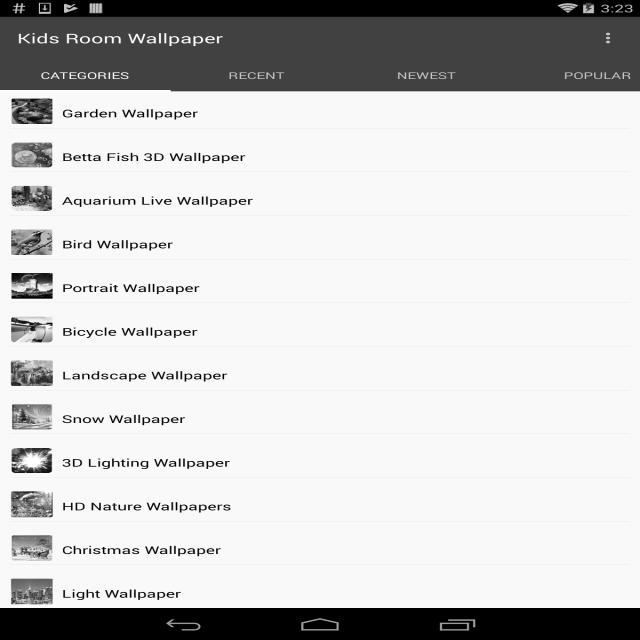ImageView: (589, 22, 631, 54), (11, 98, 53, 125), (11, 185, 53, 212), (11, 229, 53, 256), (11, 316, 53, 343), (11, 360, 53, 387), (11, 447, 53, 474), (11, 491, 53, 518), (11, 578, 53, 605), (11, 142, 53, 168), (11, 273, 53, 299), (11, 404, 53, 430), (11, 535, 53, 561), (11, 215, 629, 216), (11, 346, 629, 347), (11, 477, 629, 478), (11, 128, 629, 128), (11, 172, 629, 172), (11, 259, 629, 259), (11, 303, 629, 303), (11, 390, 629, 390), (11, 434, 629, 434), (11, 521, 629, 521), (11, 565, 629, 565)
TextView: (54, 144, 255, 170), (53, 188, 262, 213), (54, 362, 236, 388), (53, 450, 239, 475), (54, 494, 240, 518), (53, 538, 230, 562), (53, 100, 207, 126), (54, 319, 206, 344), (17, 29, 224, 47), (53, 276, 208, 300), (53, 406, 194, 432), (53, 581, 190, 606), (53, 232, 182, 256), (40, 69, 130, 82), (563, 69, 632, 82), (397, 69, 456, 82), (228, 69, 284, 82)
